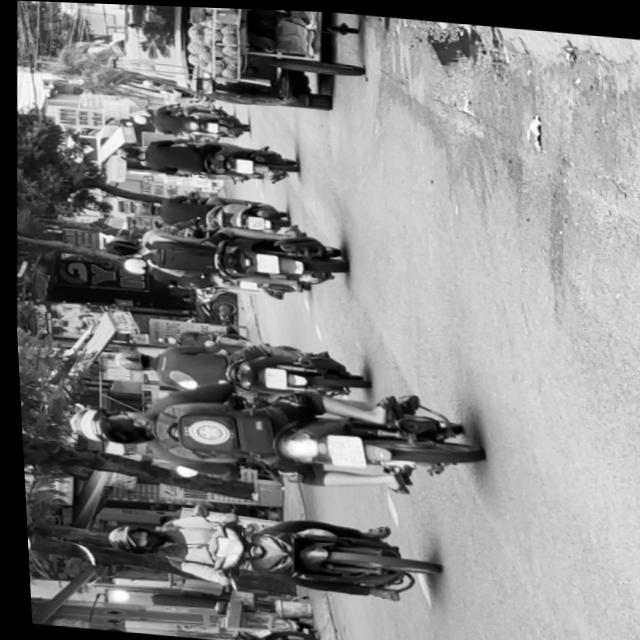helmet: (98, 522, 159, 557), (63, 405, 108, 445), (108, 349, 149, 374)
licenseplate: (71, 366, 481, 504), (92, 497, 432, 607), (94, 211, 349, 305), (107, 328, 365, 405)
motorcyclist: (92, 408, 153, 448), (100, 236, 137, 259)
nohelmet: (319, 433, 360, 468), (257, 366, 280, 388), (251, 253, 275, 273)
